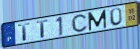0: (109, 7, 123, 27)
1: (55, 16, 64, 38)
C: (71, 13, 88, 33)
M: (88, 9, 108, 32)
T: (17, 22, 32, 42), (36, 18, 50, 39)
